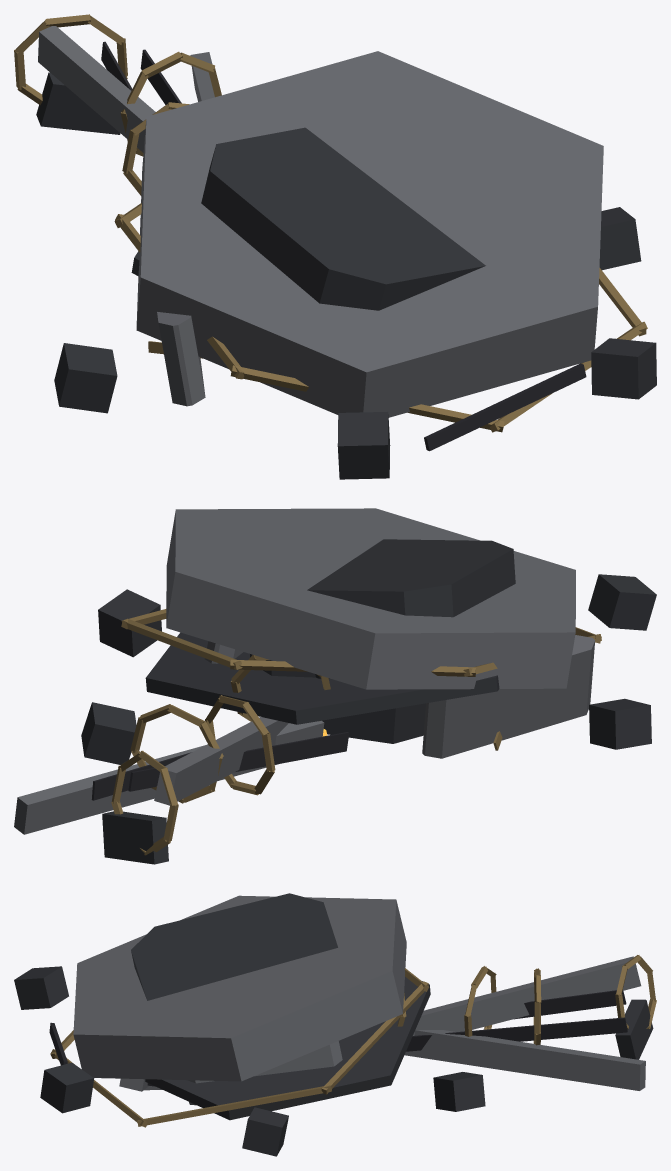
File: Wreck_Aegis_RailBattery.fbx
The picture shows the model from 3 angles, top to bottom: view 1: azimuth 30°, elevation 25°; view 2: azimuth 150°, elevation 25°; view 3: azimuth 270°, elevation 25°; orthographic projection. The views are drawn at different scales.
Parts seen in each view (by area): view 1: Wreck_Aegis_RailBattery; view 2: Wreck_Aegis_RailBattery; view 3: Wreck_Aegis_RailBattery.
Part boxes in pixels (bbox=[...]): Wreck_Aegis_RailBattery: bbox=[14, 14, 656, 479]; Wreck_Aegis_RailBattery: bbox=[14, 508, 656, 864]; Wreck_Aegis_RailBattery: bbox=[14, 893, 656, 1156].
Size of the model in its own units: 2.47 by 0.7271 by 3.23.
